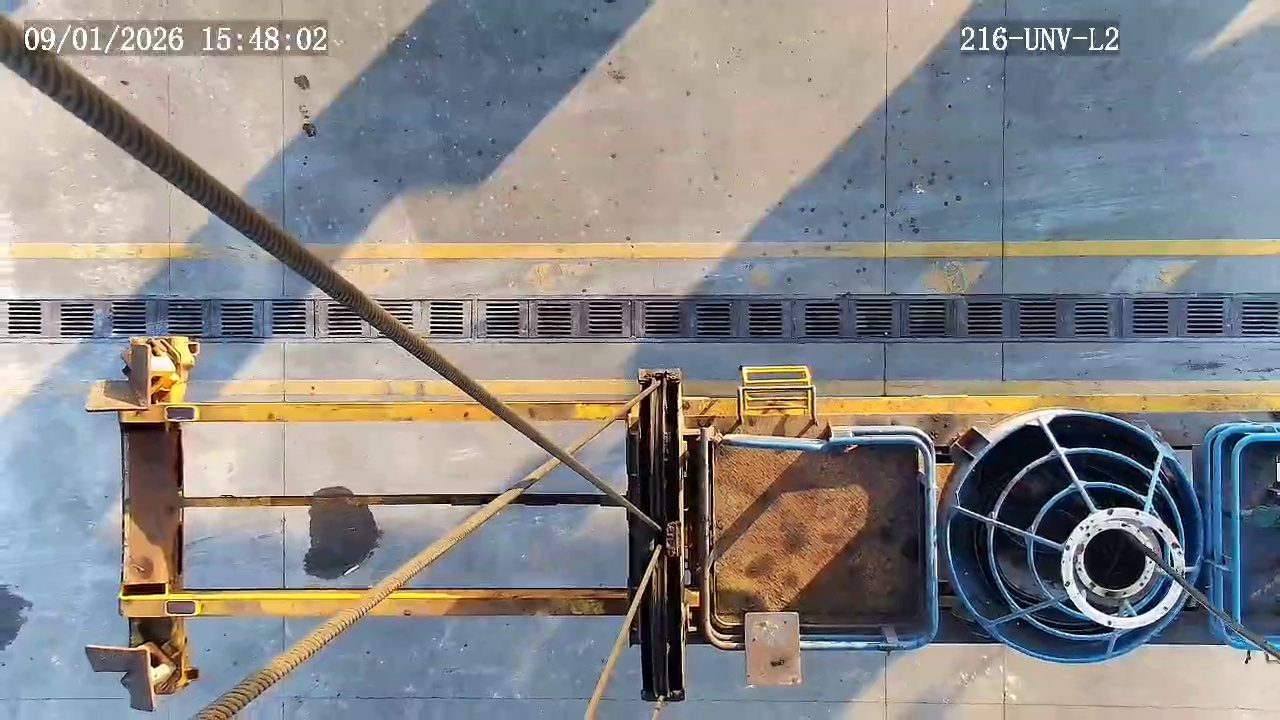left: (947, 411, 1204, 662)
